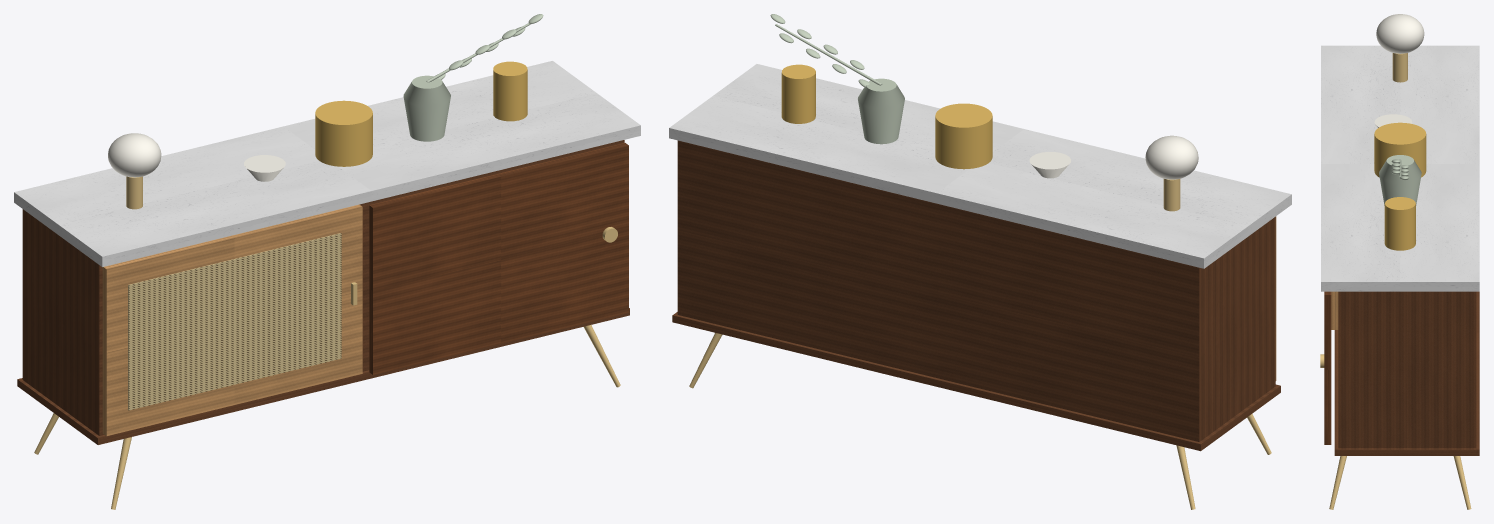
Rendered from aparador.glb.
3 renders of one model, left to right at view 1: azimuth 30°, elevation 25°; view 2: azimuth 150°, elevation 25°; view 3: azimuth 270°, elevation 25°, orthographic. The views are drawn at different scales.
Visible parts, largest first — view 1: Marmol, Puerta_nogal, Mimbre, Madera_nogal, Marco_roble, Ceramica_ocre, Ceramica_salvia, Ceramica_crema, Laton; view 2: Madera_nogal, Marmol, Ceramica_ocre, Ceramica_salvia, Ceramica_crema, Laton; view 3: Marmol, Madera_nogal, Ceramica_ocre, Ceramica_crema, Ceramica_salvia, Puerta_nogal, Laton, Marco_roble.
Part boxes in pixels (bbox=[...]): Marmol: bbox=[14, 61, 640, 266]; Puerta_nogal: bbox=[369, 143, 628, 374]; Mimbre: bbox=[128, 233, 341, 410]; Madera_nogal: bbox=[17, 140, 629, 444]; Marco_roble: bbox=[102, 204, 362, 436]; Ceramica_ocre: bbox=[315, 61, 527, 166]; Ceramica_salvia: bbox=[403, 14, 543, 141]; Ceramica_crema: bbox=[108, 133, 285, 181]; Laton: bbox=[34, 176, 620, 509]; Madera_nogal: bbox=[672, 140, 1280, 451]; Marmol: bbox=[669, 64, 1291, 268]; Ceramica_ocre: bbox=[781, 64, 992, 169]; Ceramica_salvia: bbox=[770, 14, 904, 144]; Ceramica_crema: bbox=[1029, 135, 1198, 179]; Laton: bbox=[689, 179, 1271, 509]; Marmol: bbox=[1321, 45, 1479, 291]; Madera_nogal: bbox=[1334, 291, 1479, 455]; Ceramica_ocre: bbox=[1374, 122, 1426, 250]; Ceramica_crema: bbox=[1374, 14, 1424, 127]; Ceramica_salvia: bbox=[1379, 155, 1421, 205]; Puerta_nogal: bbox=[1324, 291, 1331, 444]; Laton: bbox=[1320, 53, 1471, 509]; Marco_roble: bbox=[1331, 291, 1338, 329].
Bounding box in the file's own units: 1.62 × 1.02 × 0.462.
9 materials, 5 textured.
